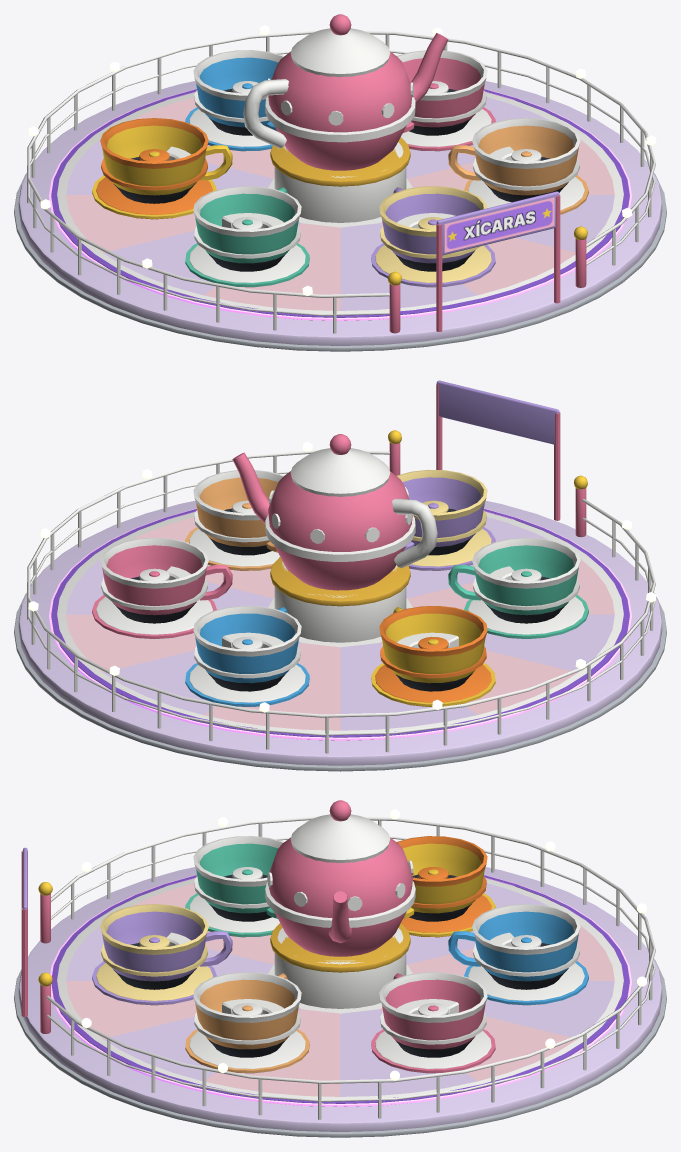
Rendered from xicaras_malucas.glb.
3 renders of one model, top to bottom at view 1: azimuth 30°, elevation 25°; view 2: azimuth 150°, elevation 25°; view 3: azimuth 270°, elevation 25°, orthographic.
Visible parts, largest first — view 1: xicaras_malucas, prato, xicara_3, xicara_4, xicara_6, xicara_5, xicara_1, xicara_2; view 2: xicaras_malucas, prato, xicara_1, xicara_4, xicara_2, xicara_3, xicara_6, xicara_5; view 3: xicaras_malucas, prato, xicara_2, xicara_5, xicara_1, xicara_6, xicara_4, xicara_3.
Boxes of the visible parts, x1,y1,x2,y2 form: xicaras_malucas: (14, 14, 666, 351); prato: (49, 89, 631, 320); xicara_3: (92, 118, 232, 219); xicara_4: (185, 186, 309, 287); xicara_6: (448, 118, 588, 214); xicara_5: (371, 186, 495, 287); xicara_1: (397, 50, 495, 151); xicara_2: (185, 50, 284, 151); xicaras_malucas: (14, 380, 666, 771); prato: (49, 508, 631, 740); xicara_1: (92, 537, 232, 638); xicara_4: (448, 537, 588, 638); xicara_2: (185, 606, 309, 706); xicara_3: (371, 606, 495, 706); xicara_6: (185, 470, 283, 570); xicara_5: (397, 469, 495, 570); xicaras_malucas: (14, 800, 666, 1137); prato: (50, 875, 631, 1106); xicara_2: (448, 904, 588, 1005); xicara_5: (92, 904, 232, 1005); xicara_1: (371, 972, 495, 1073); xicara_6: (185, 972, 309, 1073); xicara_4: (185, 836, 283, 937); xicara_3: (397, 836, 495, 937).
Bounding box in the file's own units: 14.4 × 4.84 × 14.4.
4 materials, 2 textured.
